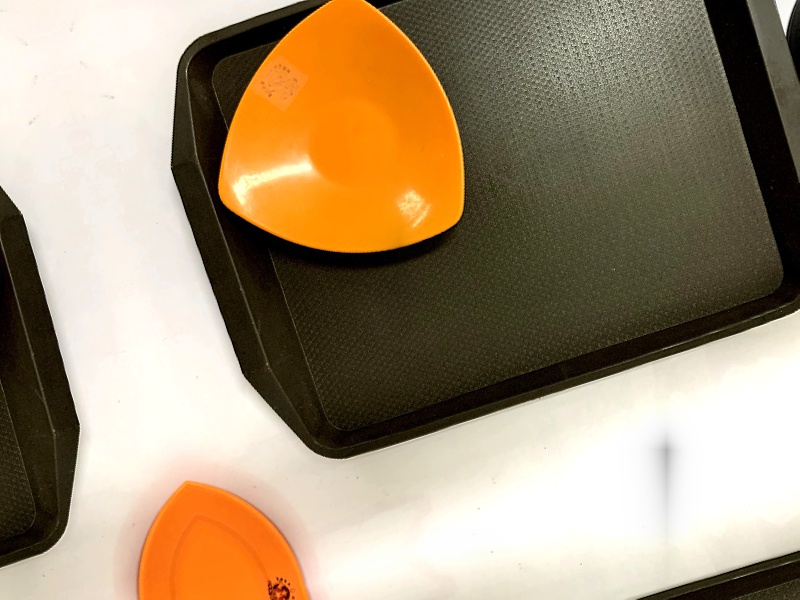dish11: (165, 0, 494, 304)
